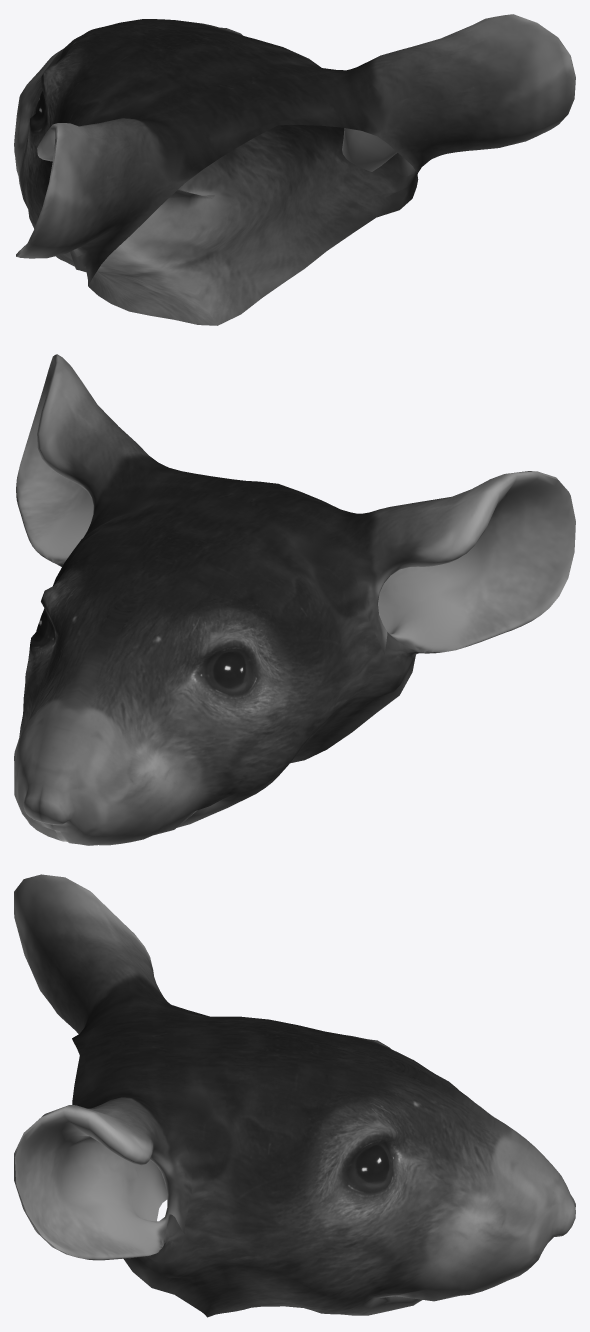
3 renders of one model, top to bottom at view 1: azimuth 30°, elevation 25°; view 2: azimuth 150°, elevation 25°; view 3: azimuth 270°, elevation 25°, orthographic. The views are drawn at different scales.
Visible parts, largest first — view 1: face_mesh_IR_textured_face_class_2.004; view 2: face_mesh_IR_textured_face_class_2.004; view 3: face_mesh_IR_textured_face_class_2.004.
Part boxes in pixels (x1,y1,x2,y2): face_mesh_IR_textured_face_class_2.004: (14, 14, 575, 325); face_mesh_IR_textured_face_class_2.004: (14, 354, 575, 845); face_mesh_IR_textured_face_class_2.004: (14, 874, 575, 1317).
Size of the model in its own units: 3.08 by 1.66 by 2.66.
1 material, 1 textured.
